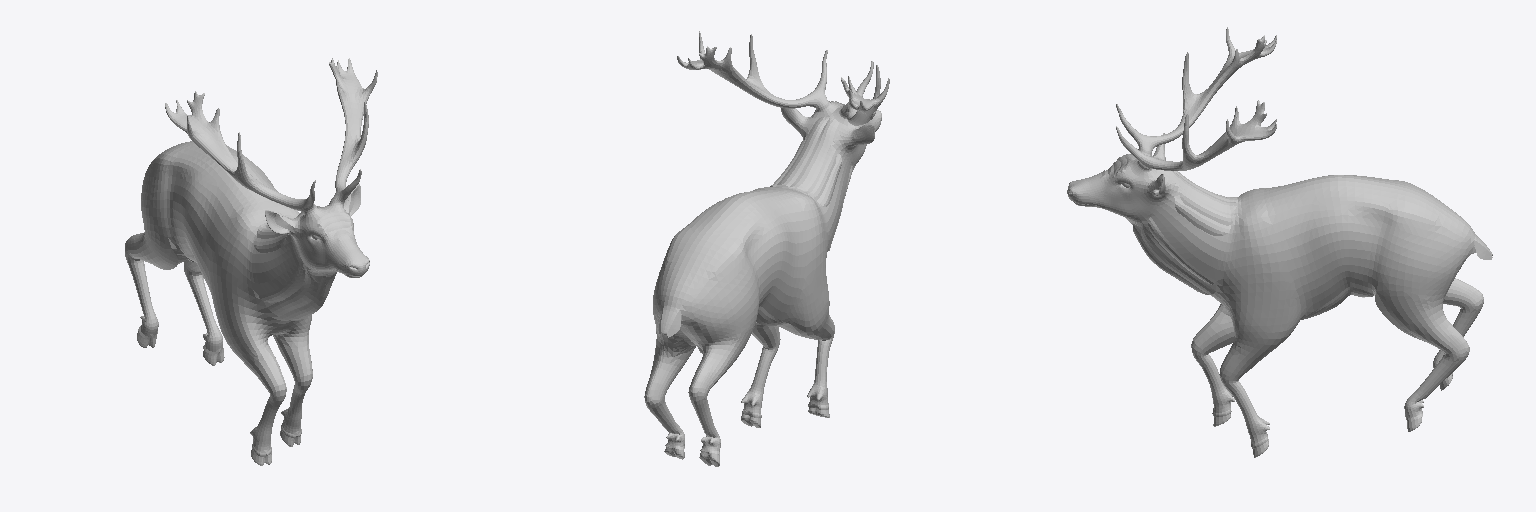
File: frame_0018_uv.obj
3 views of the same model, side by side, from view 1: azimuth 30°, elevation 25°; view 2: azimuth 150°, elevation 25°; view 3: azimuth 270°, elevation 25° (orthographic).
Visible parts, largest first — view 1: pMesh1; view 2: pMesh1; view 3: pMesh1.
Part boxes in pixels (x1,y1,x2,y2): pMesh1: (125, 58, 377, 465); pMesh1: (644, 31, 889, 466); pMesh1: (1067, 27, 1492, 457).
Size of the model in its own units: 1.05 by 1.97 by 2.03.